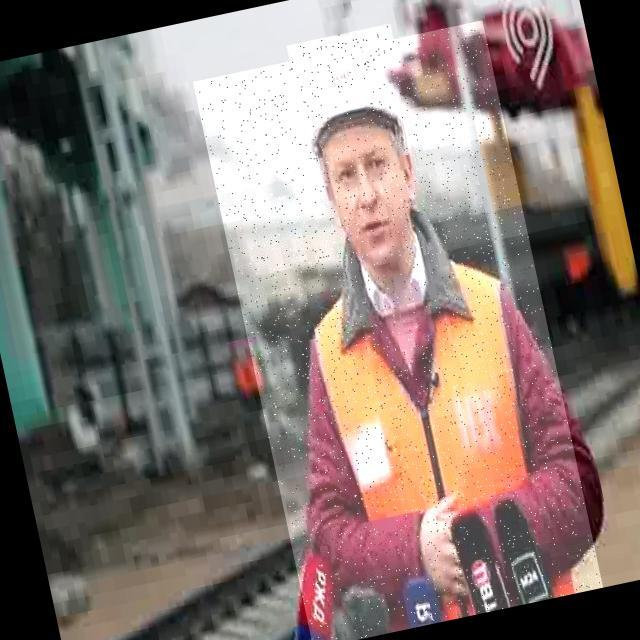Helmet: (286, 23, 416, 168)
Human: (192, 19, 602, 640)
Safety Vest: (296, 248, 577, 637)
